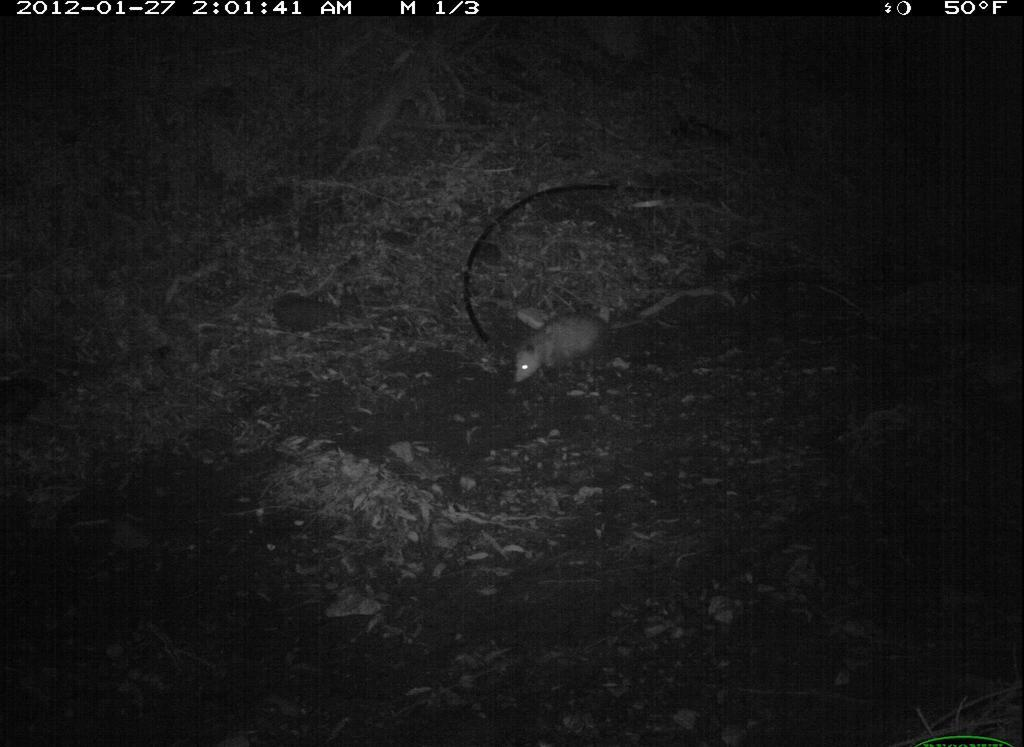opossum: (511, 305, 655, 385)
